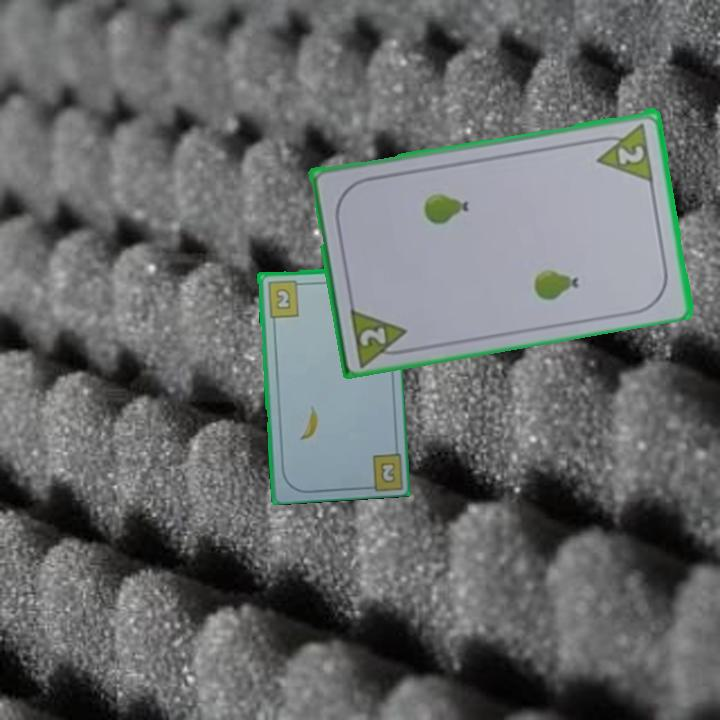2b: (264, 276, 306, 320), (376, 458, 398, 486)
2p: (590, 118, 657, 183), (346, 302, 413, 367)
